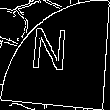N_S: (33, 28, 77, 82)
